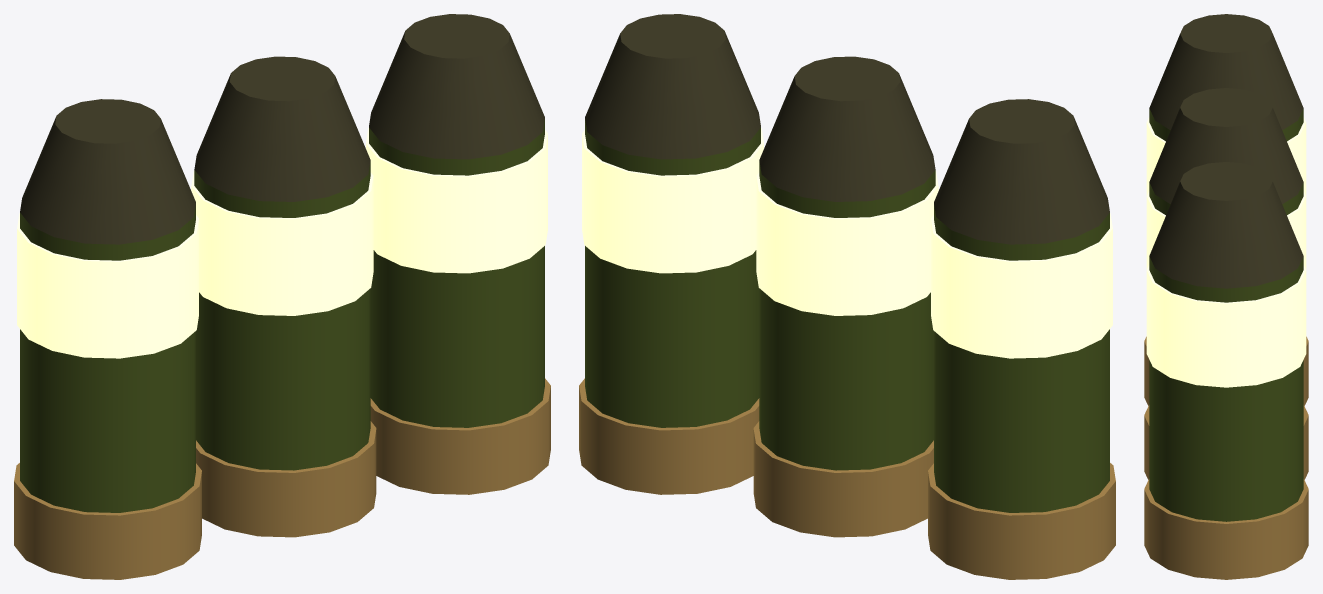
File: item.ammunition.virulent_cartridge.glb
3 renders of one model, left to right at view 1: azimuth 30°, elevation 25°; view 2: azimuth 150°, elevation 25°; view 3: azimuth 270°, elevation 25°, orthographic. The views are drawn at different scales.
Parts seen in each view (by area): view 1: _MeshInstance3D_47, _MeshInstance3D_51, _MeshInstance3D_55, _MeshInstance3D_57, _MeshInstance3D_53, _MeshInstance3D_49, _MeshInstance3D_48, _MeshInstance3D_52, _MeshInstance3D_56, _MeshInstance3D_46, _MeshInstance3D_54, _MeshInstance3D_50; view 2: _MeshInstance3D_47, _MeshInstance3D_51, _MeshInstance3D_55, _MeshInstance3D_57, _MeshInstance3D_53, _MeshInstance3D_49, _MeshInstance3D_48, _MeshInstance3D_52, _MeshInstance3D_56, _MeshInstance3D_46, _MeshInstance3D_54, _MeshInstance3D_50; view 3: _MeshInstance3D_55, _MeshInstance3D_57, _MeshInstance3D_56, _MeshInstance3D_49, _MeshInstance3D_53, _MeshInstance3D_54, _MeshInstance3D_52, _MeshInstance3D_48, _MeshInstance3D_50, _MeshInstance3D_46, _MeshInstance3D_47, _MeshInstance3D_51.
Part boxes in pixels (bbox=[...]): _MeshInstance3D_47: bbox=[20, 205, 195, 512]; _MeshInstance3D_51: bbox=[194, 161, 370, 470]; _MeshInstance3D_55: bbox=[369, 119, 544, 427]; _MeshInstance3D_57: bbox=[369, 14, 544, 159]; _MeshInstance3D_53: bbox=[194, 56, 370, 201]; _MeshInstance3D_49: bbox=[20, 99, 195, 244]; _MeshInstance3D_48: bbox=[17, 213, 198, 358]; _MeshInstance3D_52: bbox=[191, 171, 373, 315]; _MeshInstance3D_56: bbox=[366, 128, 547, 273]; _MeshInstance3D_46: bbox=[14, 463, 201, 579]; _MeshInstance3D_54: bbox=[370, 378, 550, 494]; _MeshInstance3D_50: bbox=[196, 421, 376, 537]; _MeshInstance3D_47: bbox=[934, 205, 1109, 512]; _MeshInstance3D_51: bbox=[759, 161, 935, 470]; _MeshInstance3D_55: bbox=[585, 119, 760, 427]; _MeshInstance3D_57: bbox=[585, 14, 760, 159]; _MeshInstance3D_53: bbox=[759, 56, 935, 201]; _MeshInstance3D_49: bbox=[934, 99, 1109, 244]; _MeshInstance3D_48: bbox=[931, 213, 1112, 358]; _MeshInstance3D_52: bbox=[756, 171, 938, 315]; _MeshInstance3D_56: bbox=[582, 128, 763, 273]; _MeshInstance3D_46: bbox=[928, 463, 1115, 579]; _MeshInstance3D_54: bbox=[579, 378, 759, 494]; _MeshInstance3D_50: bbox=[753, 421, 933, 537]; _MeshInstance3D_55: bbox=[1149, 256, 1303, 521]; _MeshInstance3D_57: bbox=[1149, 162, 1303, 288]; _MeshInstance3D_56: bbox=[1146, 265, 1306, 387]; _MeshInstance3D_49: bbox=[1149, 14, 1303, 129]; _MeshInstance3D_53: bbox=[1149, 88, 1303, 203]; _MeshInstance3D_54: bbox=[1144, 479, 1308, 579]; _MeshInstance3D_52: bbox=[1146, 191, 1306, 269]; _MeshInstance3D_48: bbox=[1146, 117, 1306, 195]; _MeshInstance3D_50: bbox=[1144, 405, 1308, 479]; _MeshInstance3D_46: bbox=[1144, 336, 1308, 405]; _MeshInstance3D_47: bbox=[1149, 109, 1303, 141]; _MeshInstance3D_51: bbox=[1149, 183, 1303, 214].
Size of the model in its own units: 1.2 by 0.936 by 0.384.
